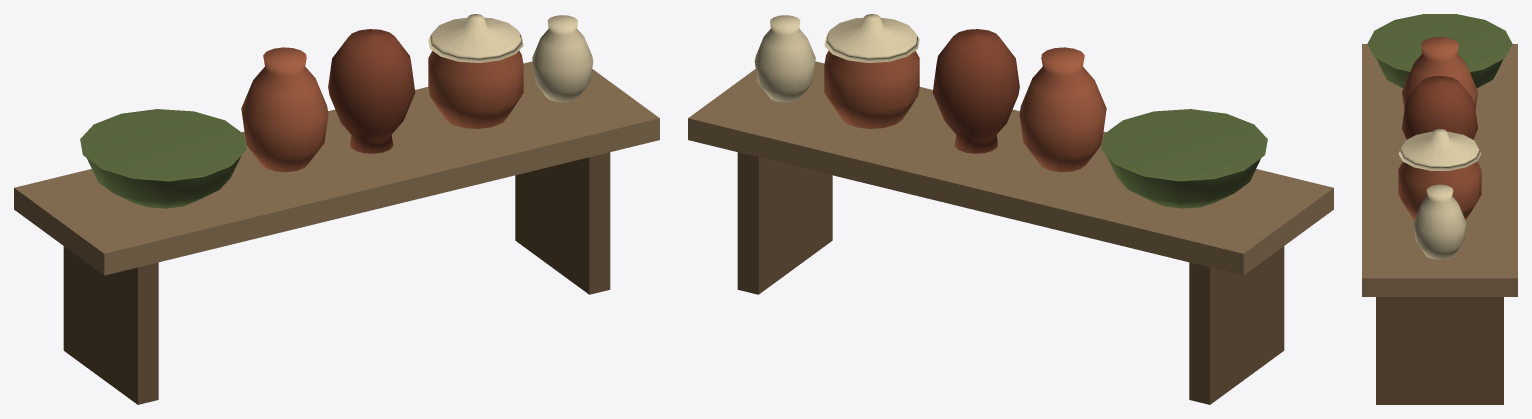
Rendered from hlechyky.glb.
The picture shows the model from 3 angles, left to right: view 1: azimuth 30°, elevation 25°; view 2: azimuth 150°, elevation 25°; view 3: azimuth 270°, elevation 25°; orthographic projection. The views are drawn at different scales.
Visible parts, largest first — view 1: seat, leg (×2), glechyk (×2), makitra, pot, glechyk_small, lid; view 2: seat, leg (×2), glechyk (×2), makitra, pot, glechyk_small, lid; view 3: seat, leg, makitra, glechyk (×2), glechyk_small, pot, lid.
Boxes of the visible parts, left/top/right/bottom form: seat: left=14, top=61, right=659, bottom=275; leg (×2): left=63, top=152, right=610, bottom=404; glechyk (×2): left=241, top=29, right=415, bottom=172; makitra: left=80, top=109, right=246, bottom=208; pot: left=428, top=50, right=523, bottom=128; glechyk_small: left=532, top=15, right=593, bottom=102; lid: left=428, top=14, right=523, bottom=62; seat: left=688, top=61, right=1333, bottom=275; leg (×2): left=737, top=152, right=1284, bottom=404; glechyk (×2): left=932, top=29, right=1106, bottom=172; makitra: left=1101, top=109, right=1267, bottom=208; pot: left=824, top=50, right=919, bottom=128; glechyk_small: left=754, top=15, right=815, bottom=102; lid: left=824, top=14, right=919, bottom=62; seat: left=1362, top=44, right=1517, bottom=296; leg: left=1376, top=297, right=1503, bottom=404; makitra: left=1367, top=14, right=1512, bottom=88; glechyk (×2): left=1402, top=37, right=1477, bottom=139; glechyk_small: left=1413, top=184, right=1466, bottom=259; pot: left=1398, top=161, right=1481, bottom=220; lid: left=1398, top=129, right=1481, bottom=170.
Size of the model in its own units: 1.6 by 0.76 by 0.45.
